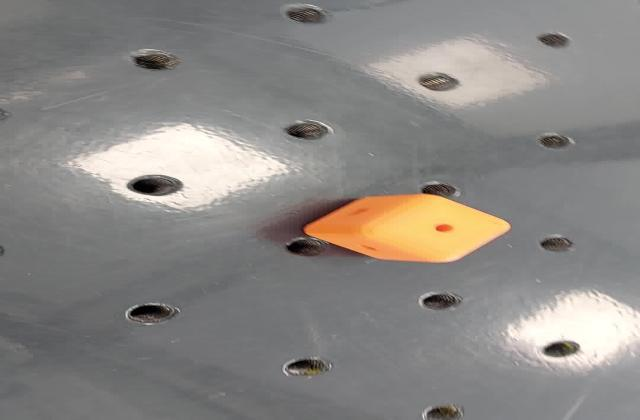cube: (292, 193, 514, 268)
